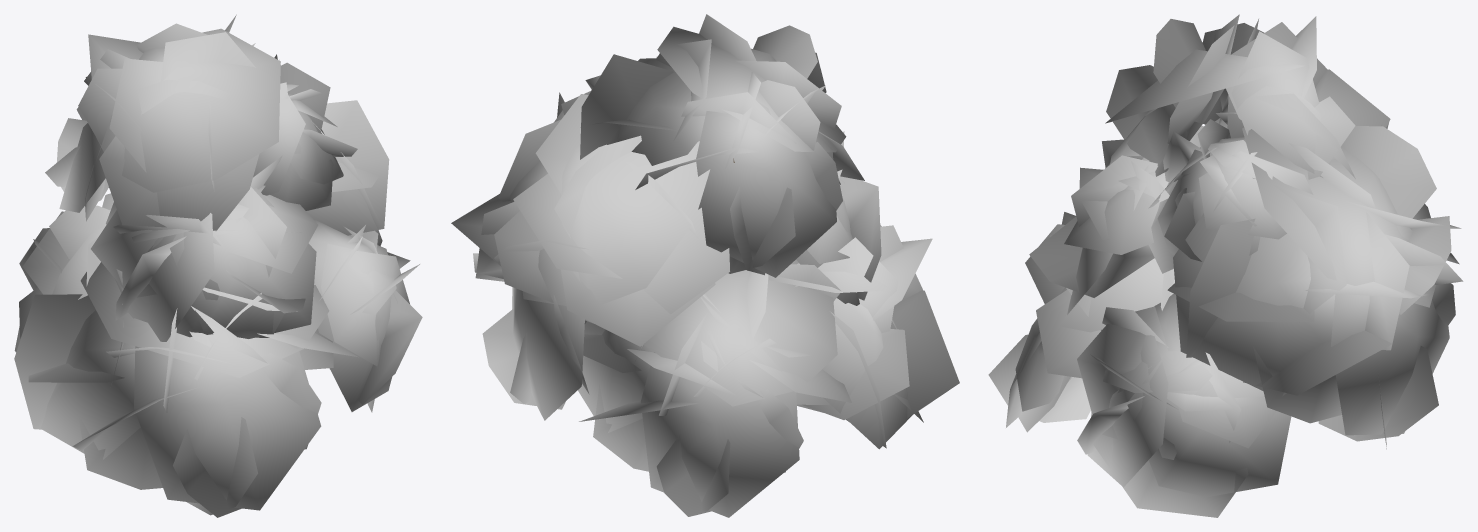
Rendered from MSH_fwOF_TreeSapling_03B.fbx.
3 views of the same model, side by side, from view 1: azimuth 30°, elevation 25°; view 2: azimuth 150°, elevation 25°; view 3: azimuth 270°, elevation 25° (orthographic). The views are drawn at different scales.
Visible parts, largest first — view 1: MSH_fwOF_TreeSapling_03B_LOD0; view 2: MSH_fwOF_TreeSapling_03B_LOD0; view 3: MSH_fwOF_TreeSapling_03B_LOD0.
Boxes of the visible parts, x1,y1,x2,y2 form: MSH_fwOF_TreeSapling_03B_LOD0: [14, 14, 422, 517]; MSH_fwOF_TreeSapling_03B_LOD0: [451, 14, 959, 517]; MSH_fwOF_TreeSapling_03B_LOD0: [988, 14, 1463, 517].
Size of what is drawn, in the model's own units: 0.7253 by 0.7953 by 0.7418.
